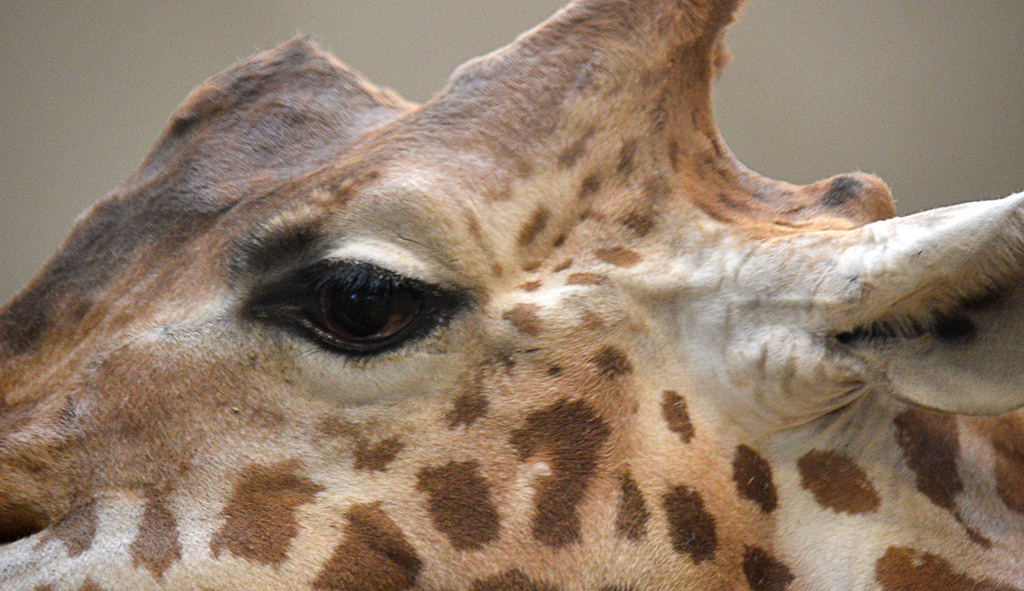giraffe: (82, 28, 1006, 573)
